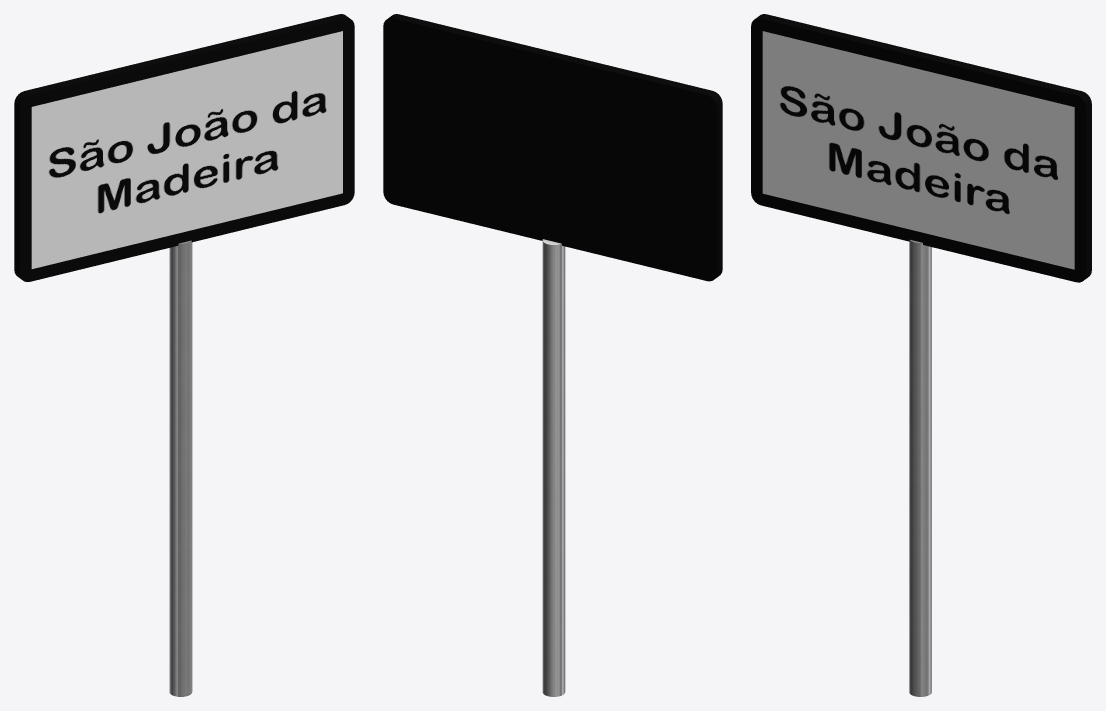
The model's file is São João da Madeira.gltf.
The picture shows the model from 3 angles, left to right: view 1: azimuth 30°, elevation 25°; view 2: azimuth 150°, elevation 25°; view 3: azimuth 330°, elevation 25°; orthographic projection.
Visible parts, largest first — view 1: root; view 2: root; view 3: root.
Boxes of the visible parts, box(x1,y1,x2,y2) form: root: box(14, 14, 354, 696); root: box(383, 14, 722, 696); root: box(751, 14, 1091, 696).
Size of the model in its own units: 0.4318 by 0.7865 by 0.0254.
4 materials, 2 textured.
